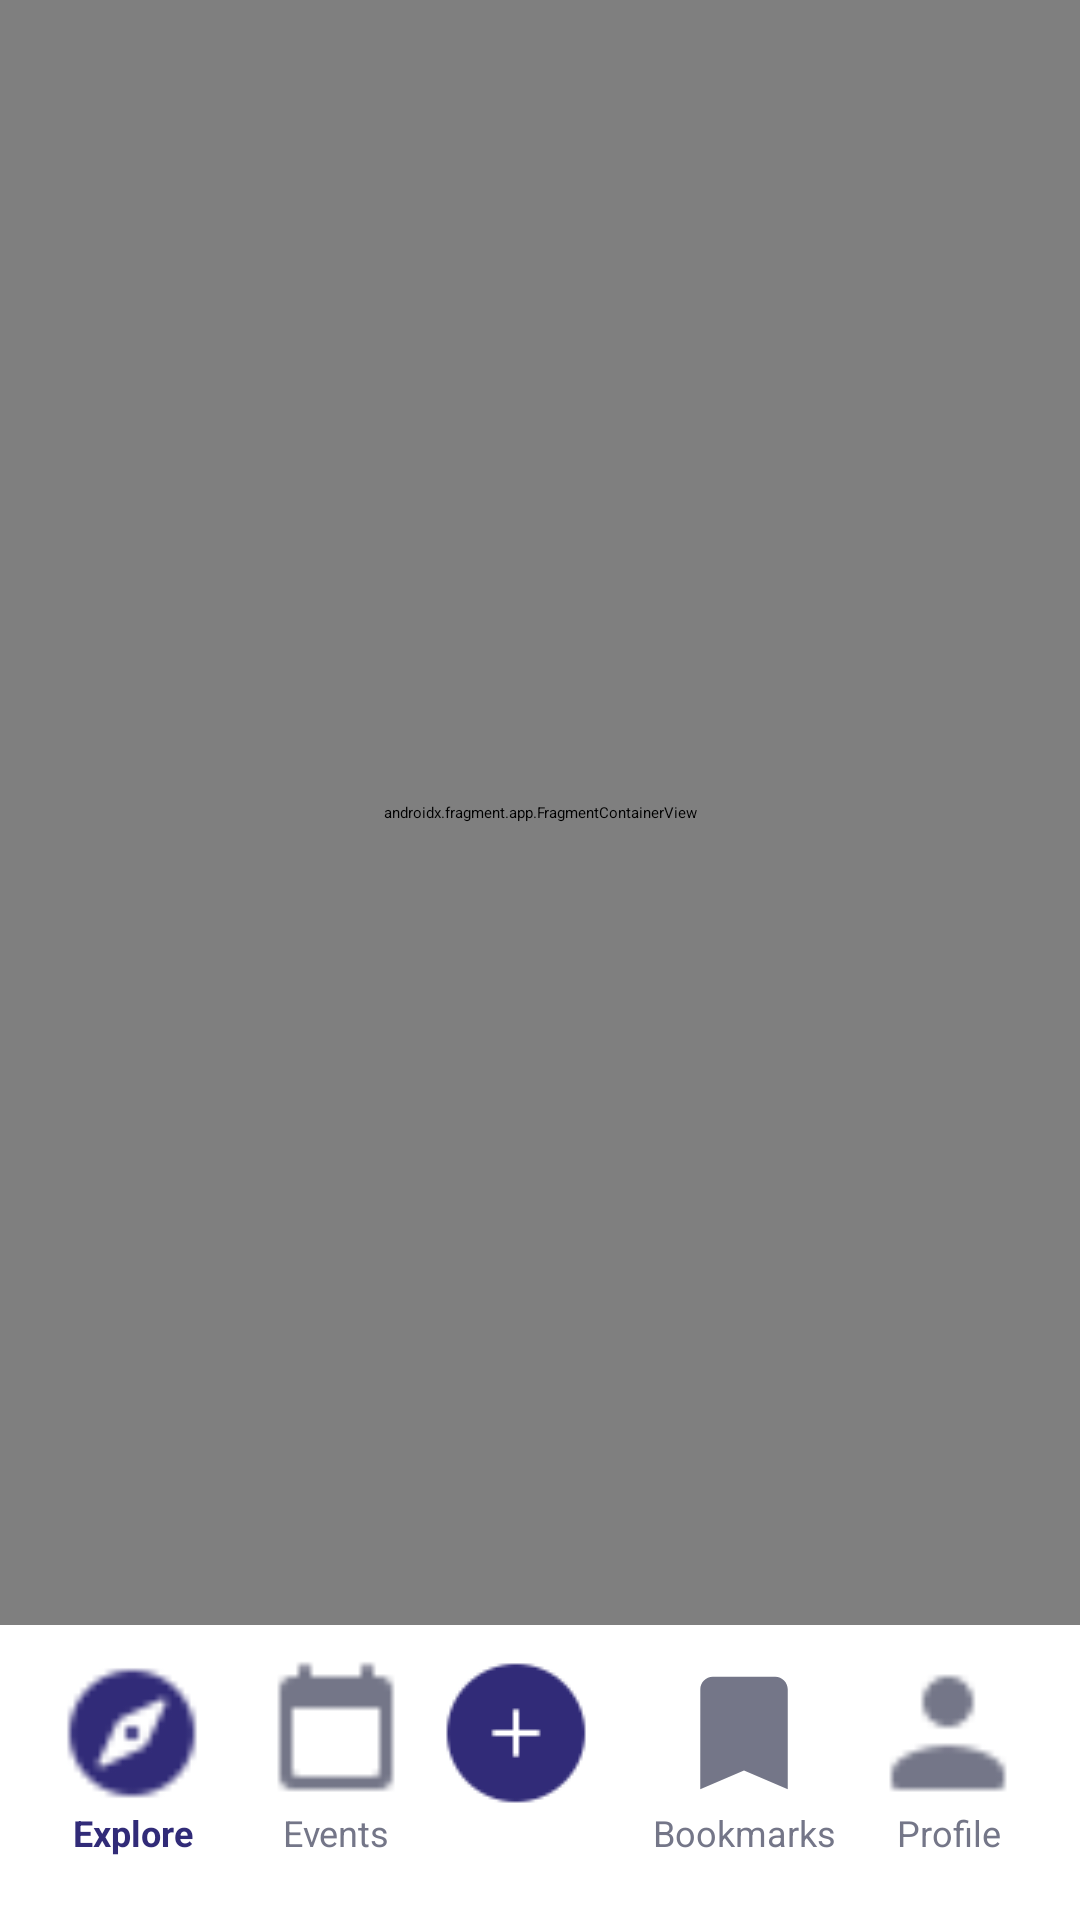

Icon click points for this 1080 × 1920 phone screenshot, format (x=x, y=y):
add: (x=516, y=1733)
calendar: (x=336, y=1727)
user: (x=948, y=1733)
